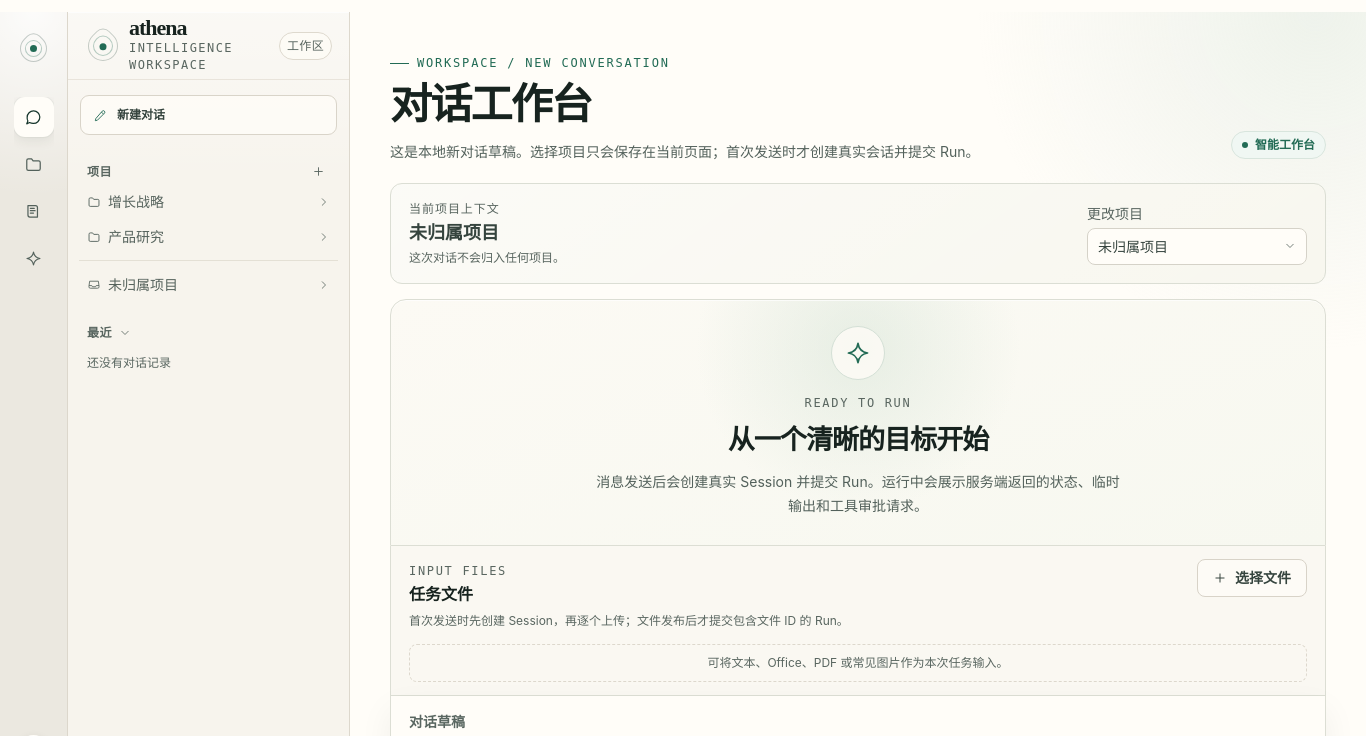
Test: 对话侧栏项目树 › 未归属项目有总数时才显示，并在展开后加载真实会话
expect the text "未归属真实会话" is not shown: met
Click the button "未归属项目". click: {"x": 208, "y": 284}
box: [79,268,338,301]
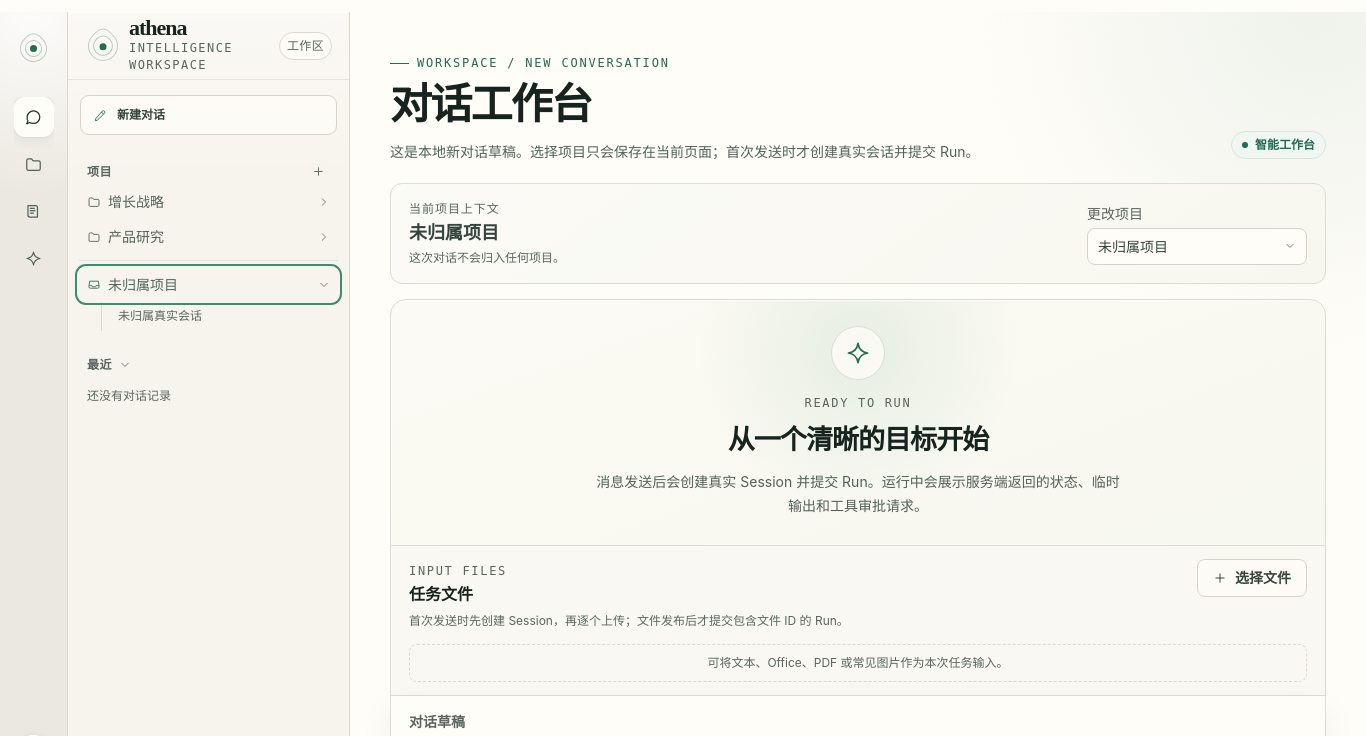
expect the link "未归属真实会话" is shown: met, box [118,308,202,323]
